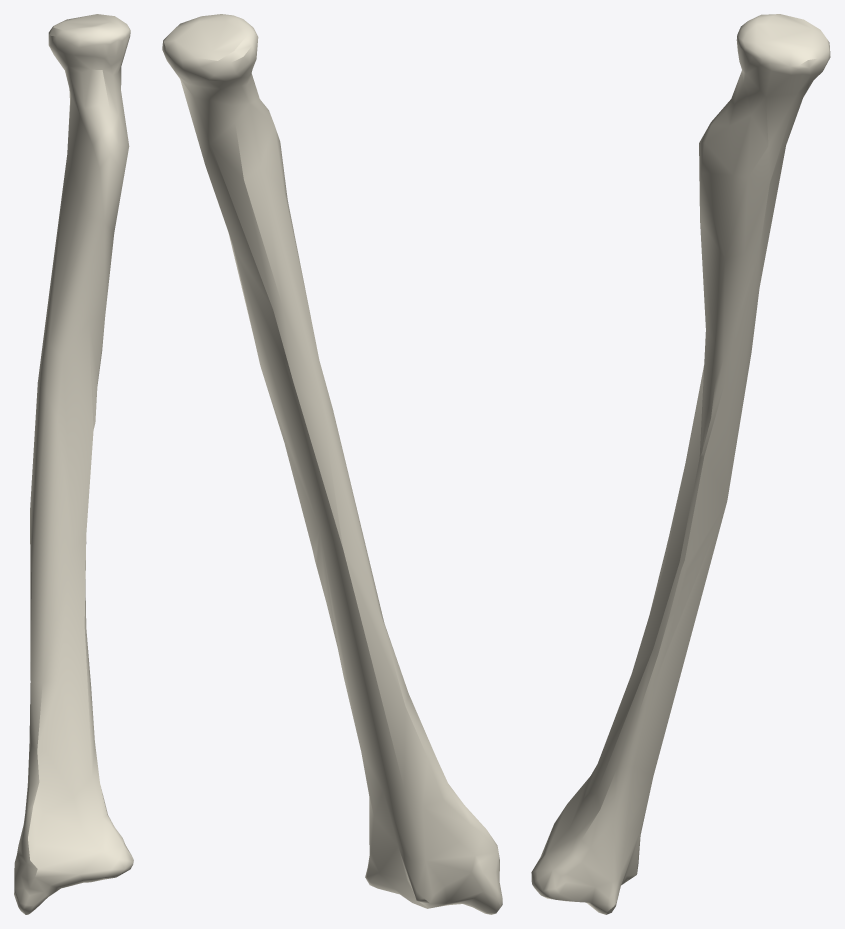
File: fma23464_fj6443.glb
The picture shows the model from 3 angles, left to right: view 1: azimuth 30°, elevation 25°; view 2: azimuth 150°, elevation 25°; view 3: azimuth 270°, elevation 25°; orthographic projection. The views are drawn at different scales.
Parts seen in each view (by area): view 1: FMA23464_FJ6443; view 2: FMA23464_FJ6443; view 3: FMA23464_FJ6443.
Boxes of the visible parts, x1,y1,x2,y2 form: FMA23464_FJ6443: (14, 14, 133, 914); FMA23464_FJ6443: (162, 14, 502, 914); FMA23464_FJ6443: (531, 14, 830, 914).
Bounding box in the file's own units: 0.0595 × 0.2292 × 0.0658.
